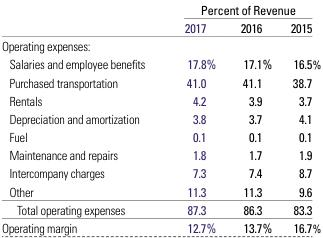table: (0, 1, 320, 235)
table column: (0, 1, 164, 235), (164, 1, 227, 235), (227, 1, 280, 235), (280, 1, 320, 235)
table column header: (0, 1, 320, 36)
table projected row header: (0, 36, 320, 54)
table row: (0, 90, 320, 109), (0, 181, 320, 200), (0, 18, 320, 36), (0, 36, 320, 54), (0, 54, 320, 72), (0, 72, 320, 90), (0, 109, 320, 127), (0, 127, 320, 145), (0, 145, 320, 163), (0, 163, 320, 181), (0, 200, 320, 218), (0, 1, 320, 18), (0, 218, 320, 235)
table spanning cell: (164, 1, 320, 18)
